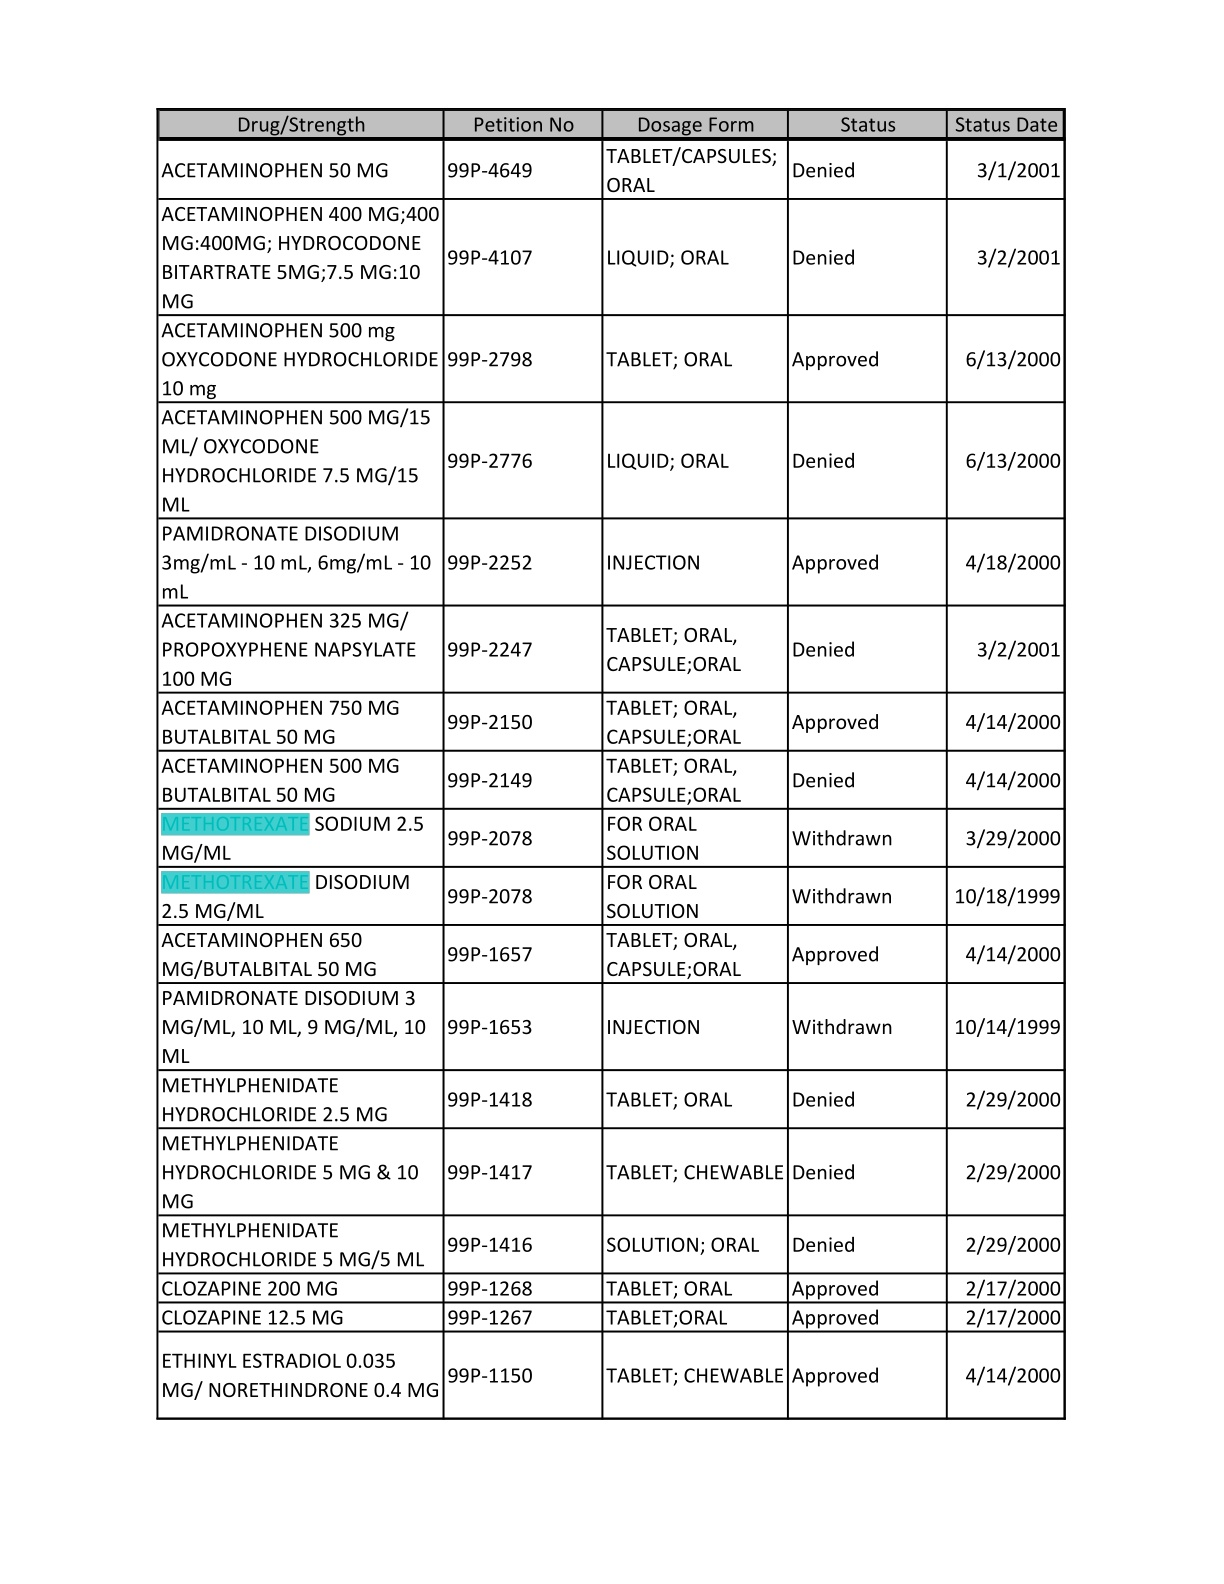full_lined: (156, 105, 1066, 1419)
